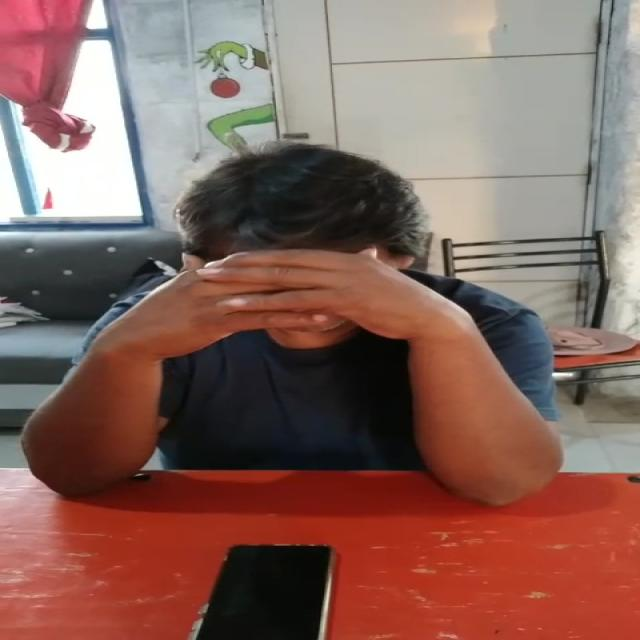7_mano_rostro: (182, 247, 416, 375)
